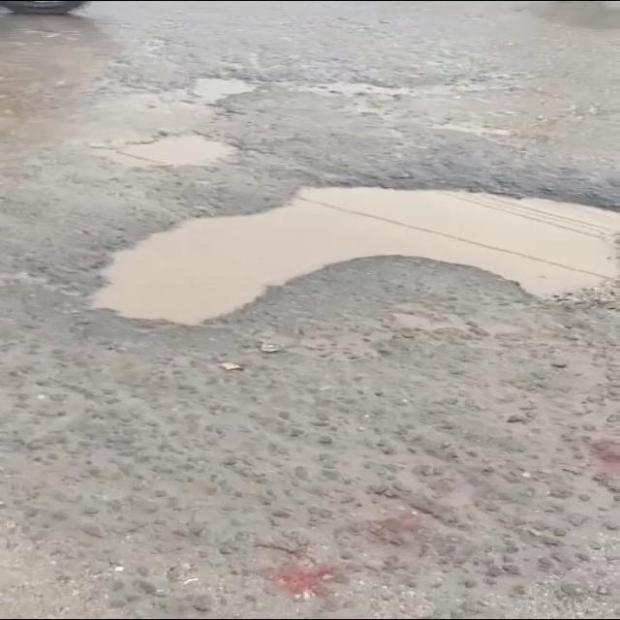lubang: (92, 188, 619, 325), (148, 70, 290, 112), (298, 75, 518, 101), (89, 132, 237, 170)
